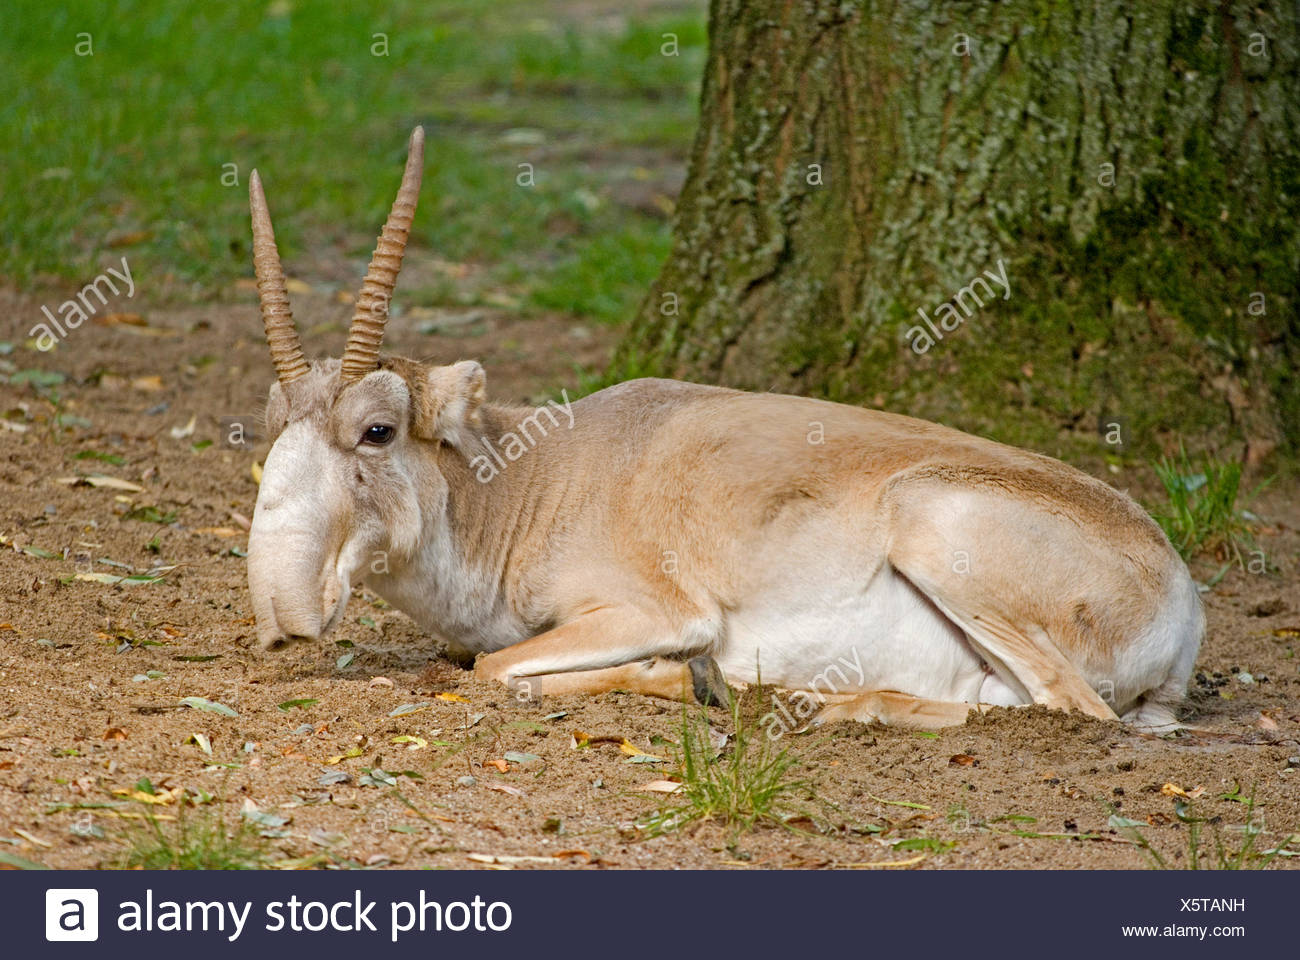saiga: (238, 127, 1214, 762)
